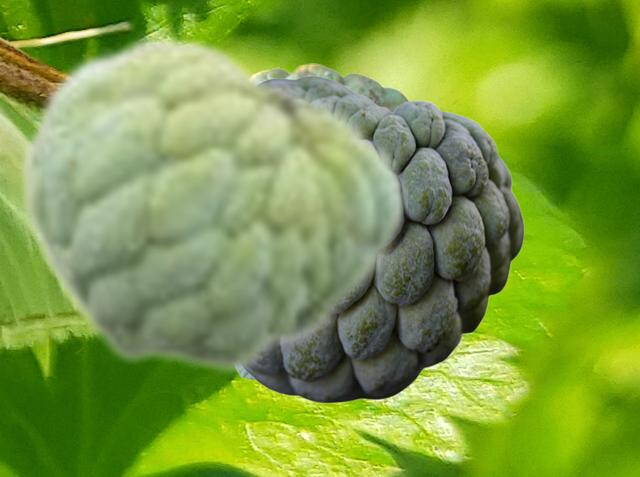atis: (16, 31, 406, 377), (248, 75, 523, 402), (237, 63, 410, 382)
